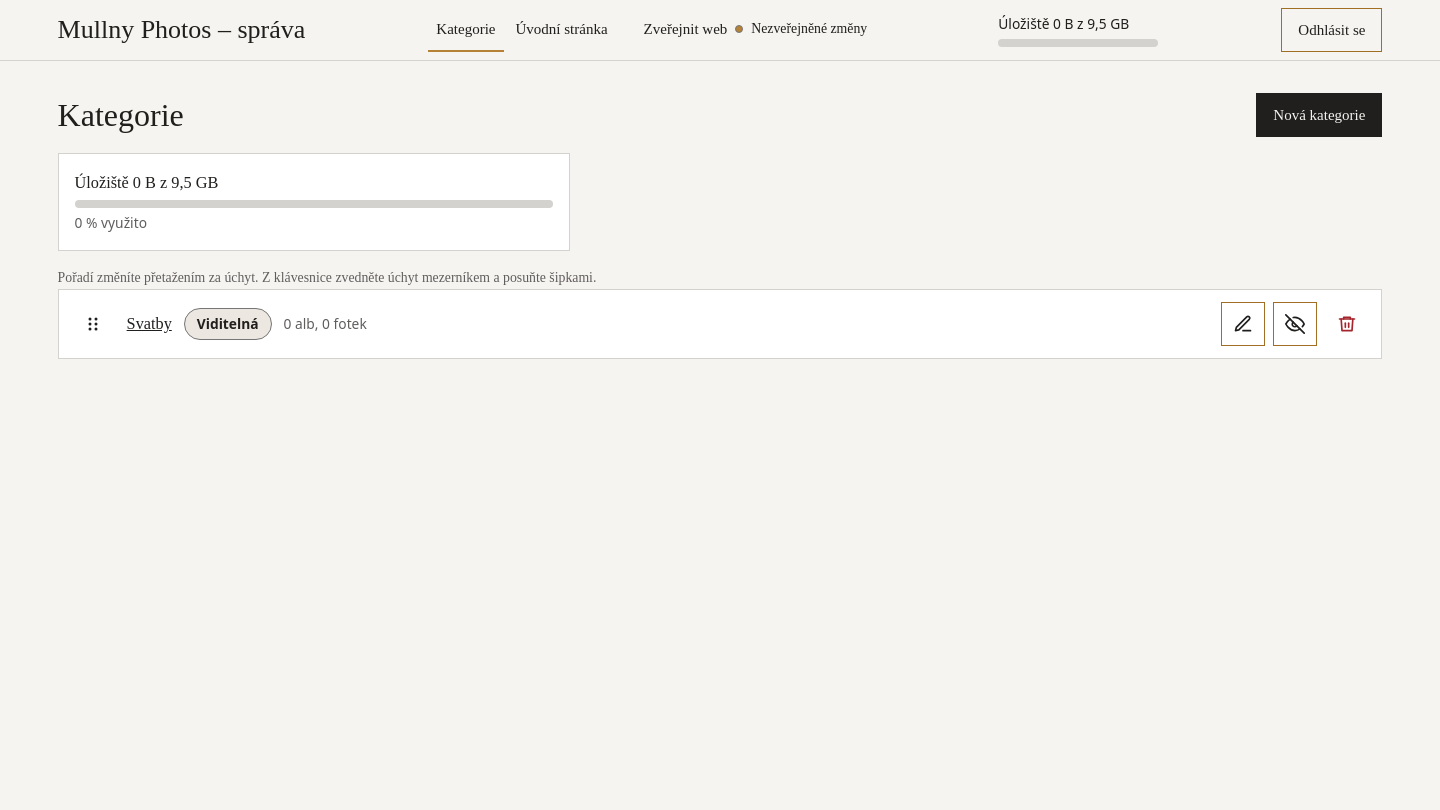
it: create and edit › a taken address is refused with a suggestion that can be applied
Expected: the heading "Kategorie" is shown, [58,96,184,134]
Click the button "Nová kategorie" at point(1319, 115), box [1256,93,1382,137]
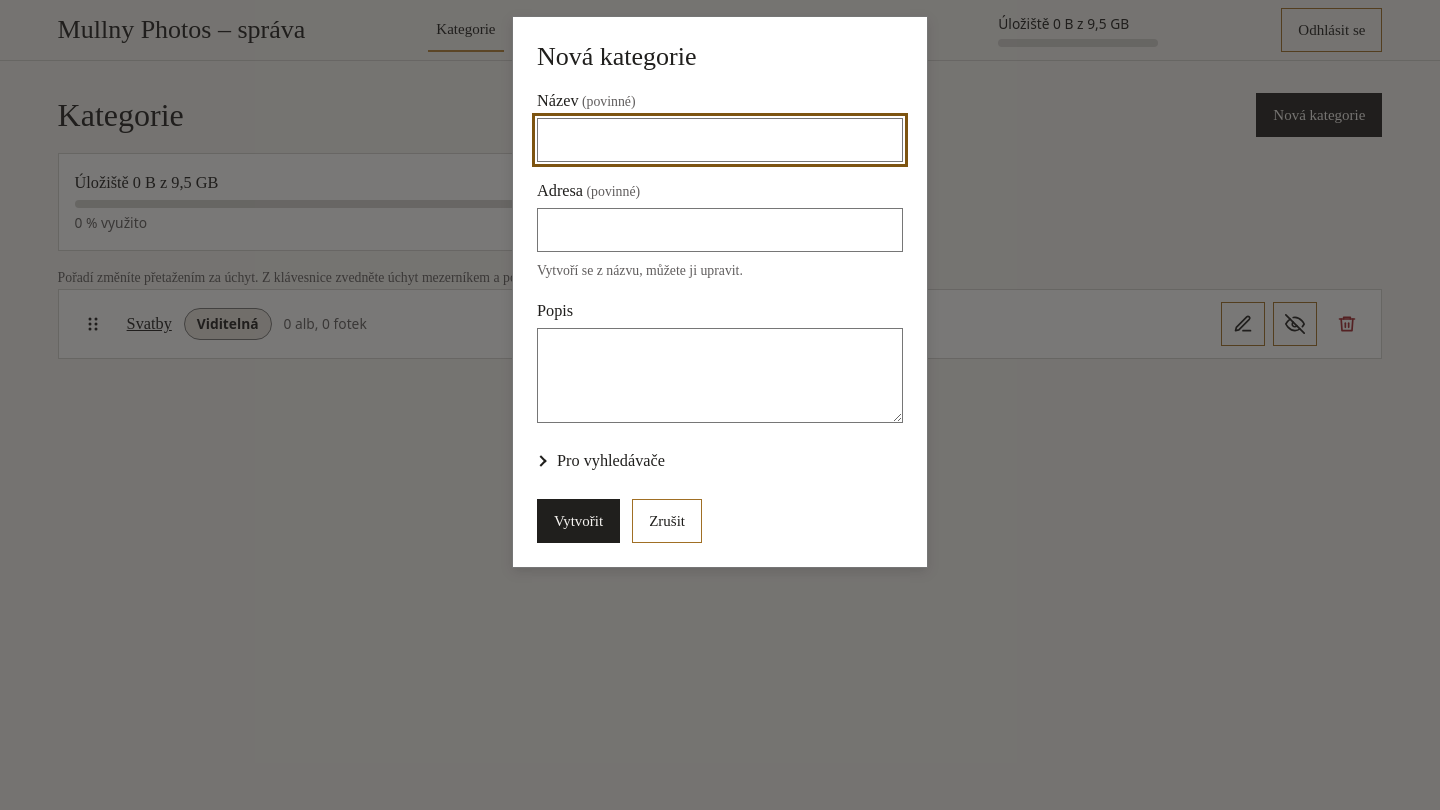
Type "Svatby" into the field labelled "Název (povinné)" at point(720, 140), box [537,118,903,162]
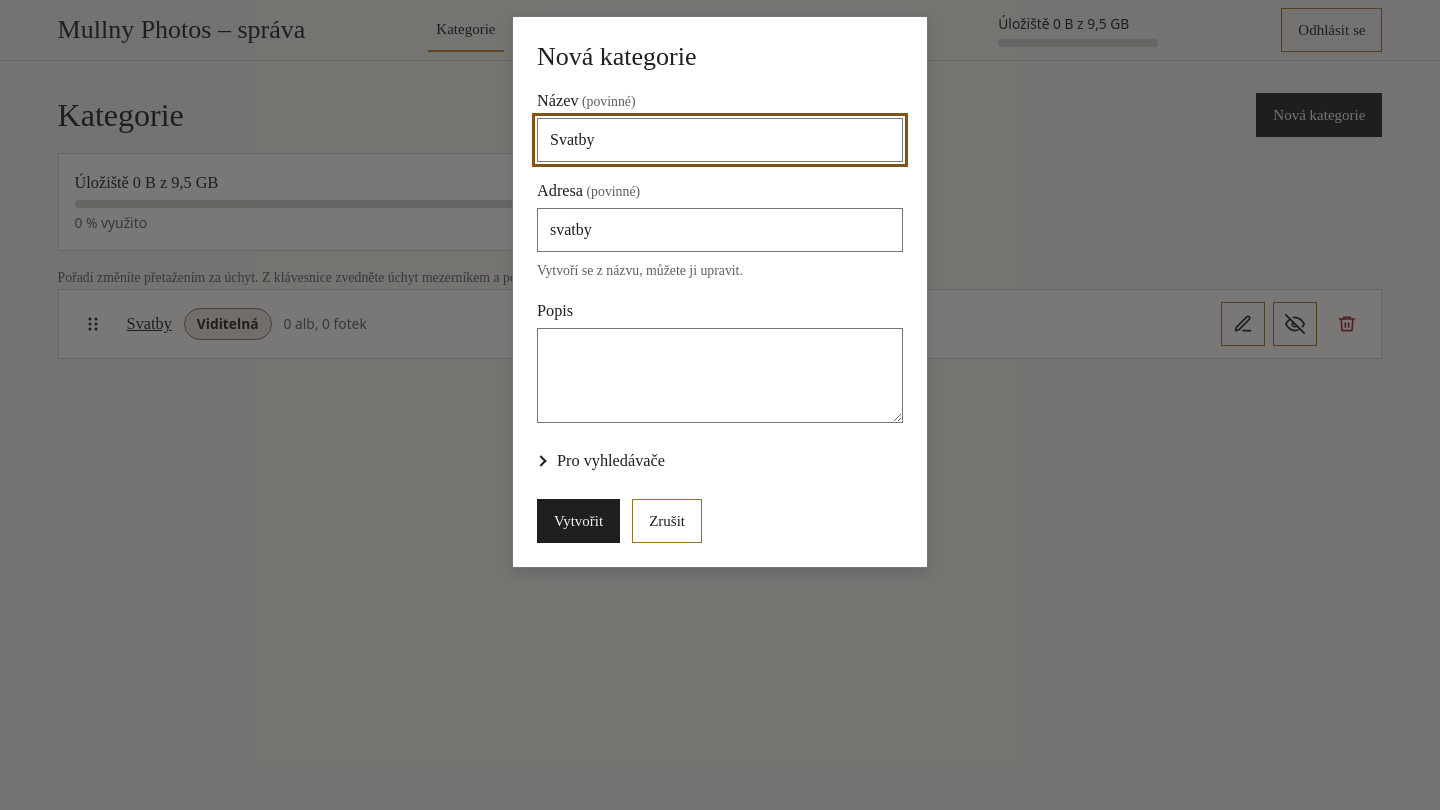
Click the button "Vytvořit" at point(579, 521), box [537,499,620,543]
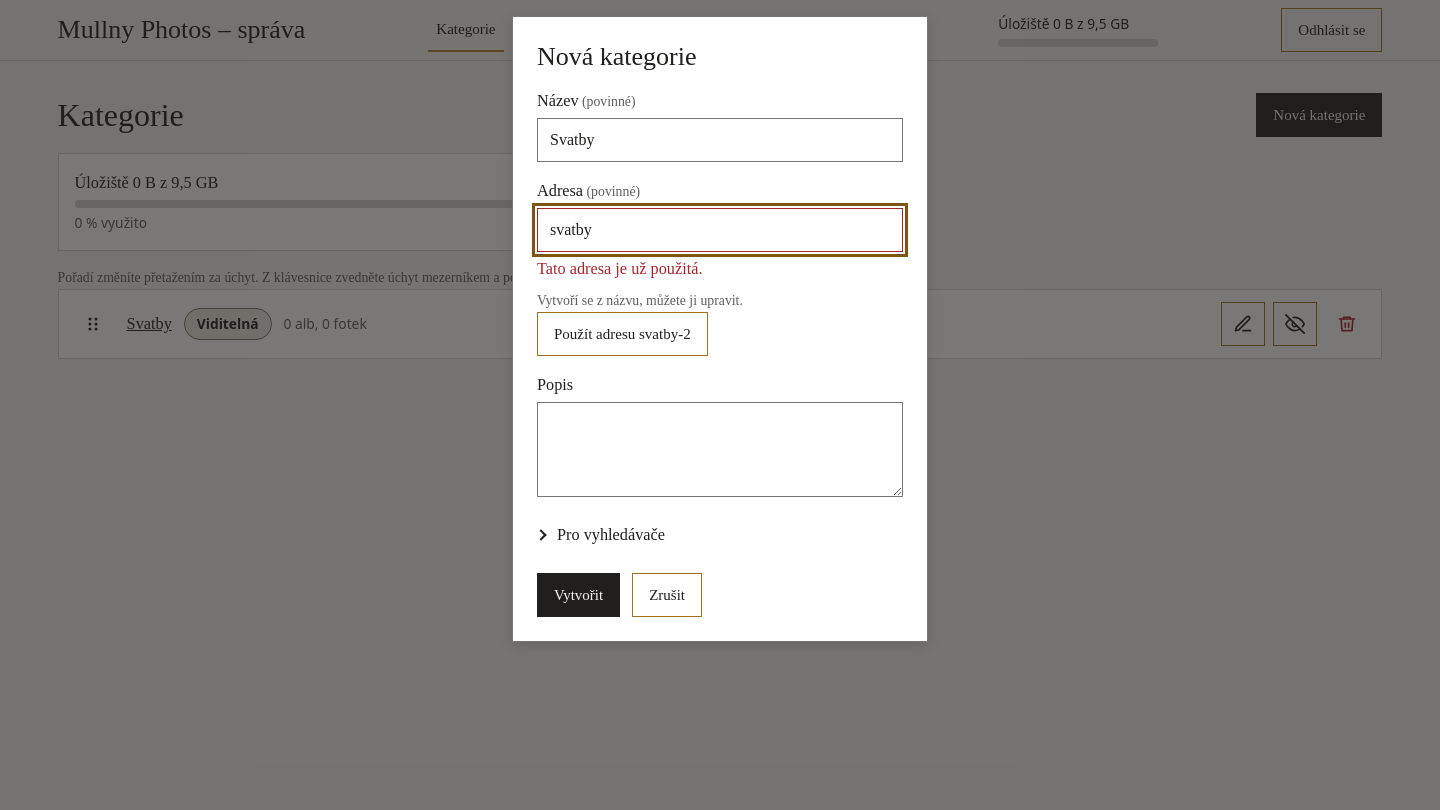
Result: the text "Tato adresa je už použitá." is shown at [537,259,702,278]
Click the button "Použít adresu svatby-2" at point(622, 334), box [537,312,708,356]
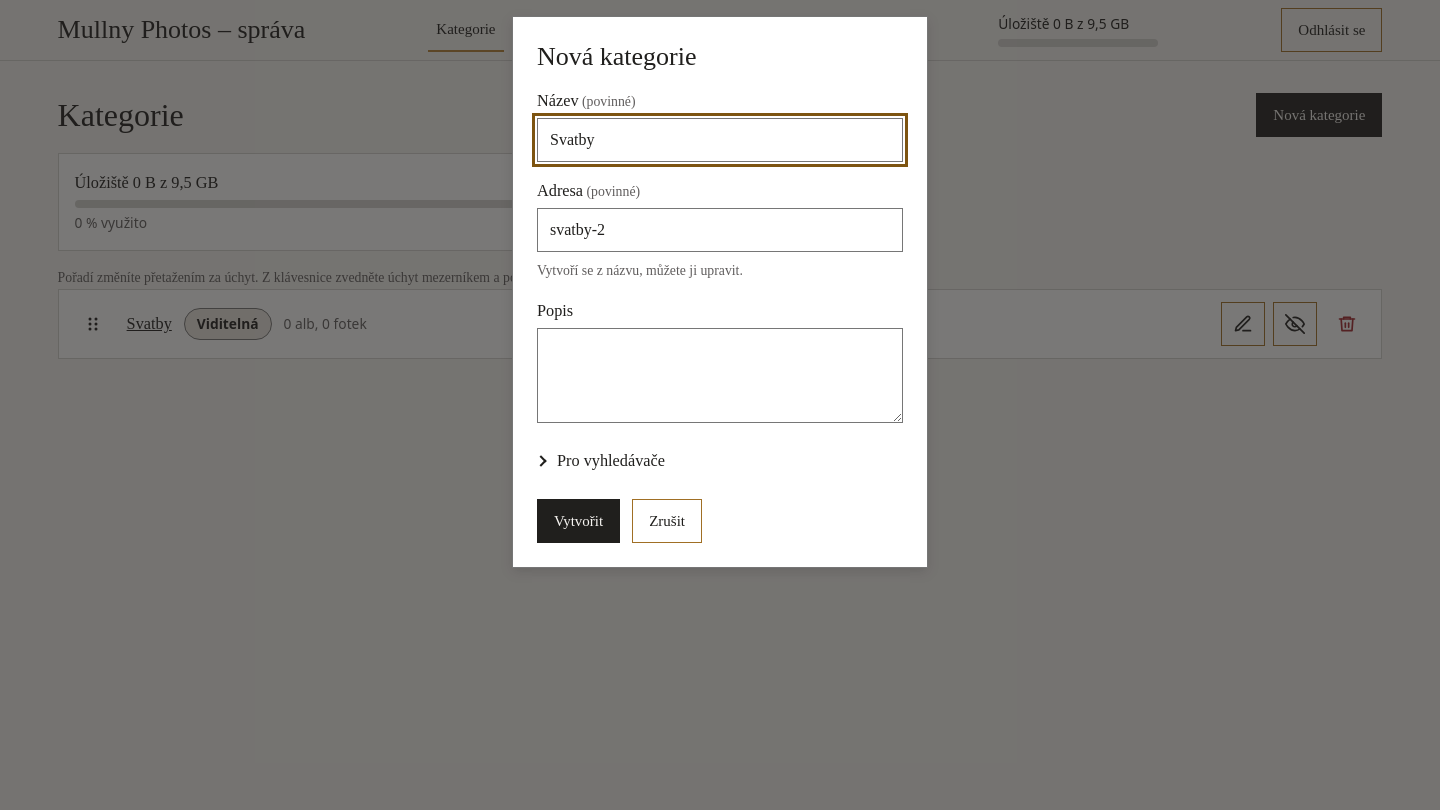
Result: the field labelled "Adresa (povinné)" holds "svatby-2" at [537,208,903,252]
Click the button "Vytvořit" at point(579, 521), box [537,499,620,543]
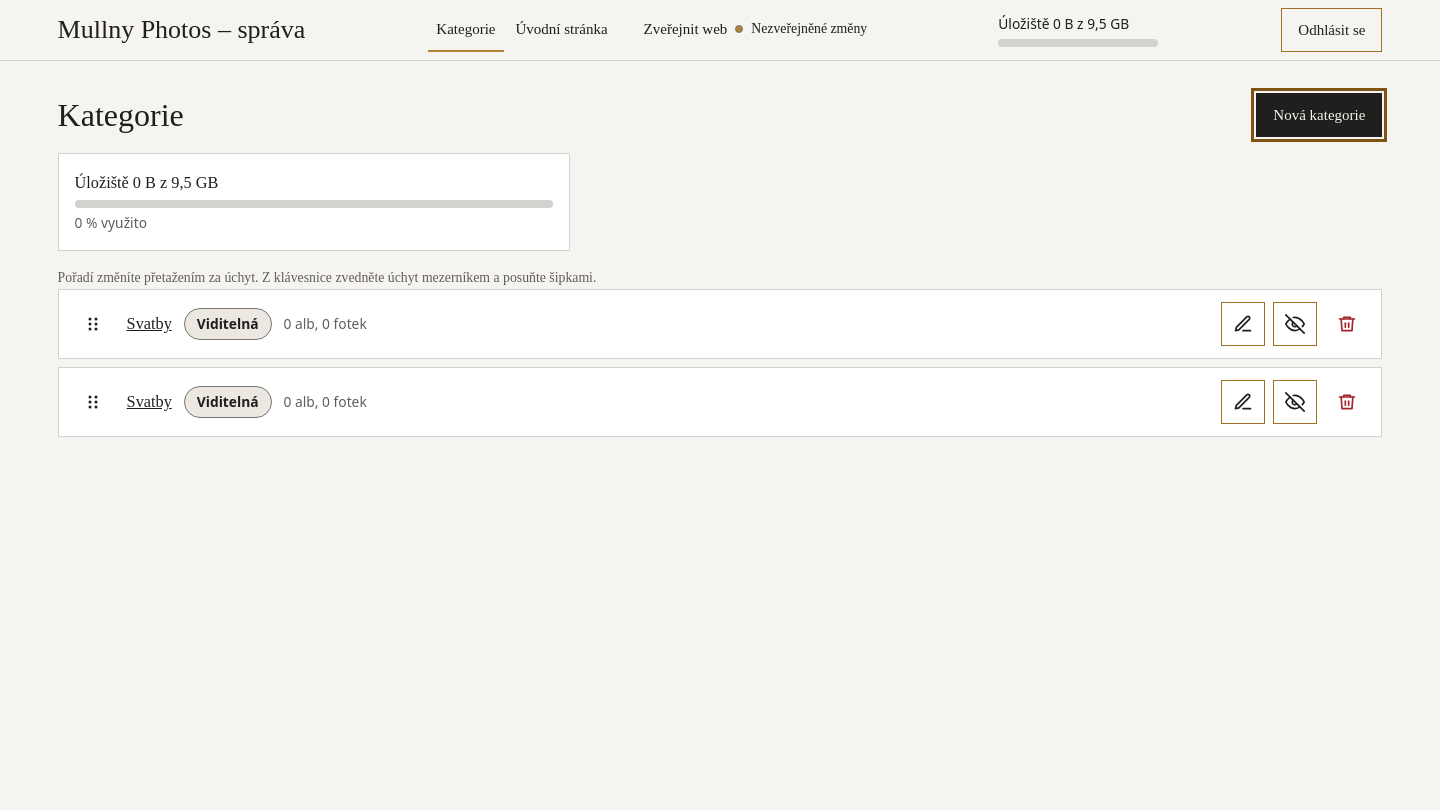
Result: the dialog is gone
